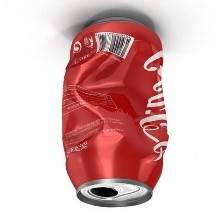can: (57, 10, 172, 209)
